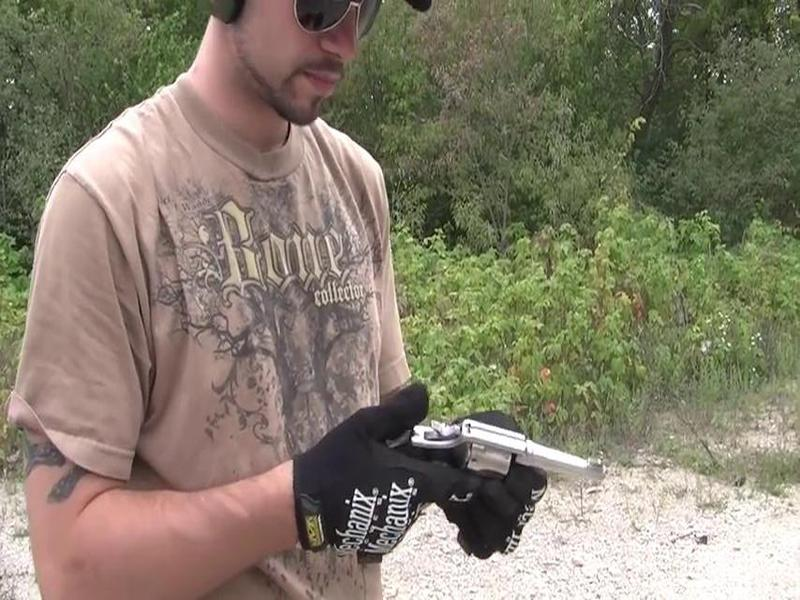Revolver: (358, 412, 604, 516)
